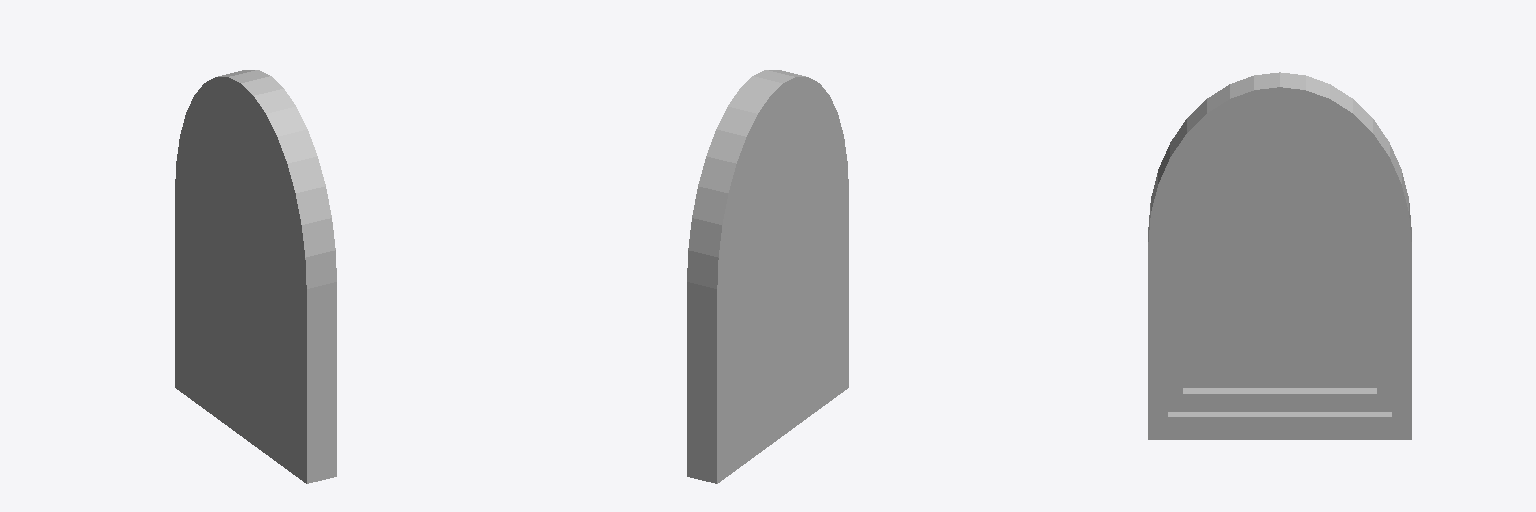
File: Janela_MESH Texture.obj
3 views of the same model, side by side, from view 1: azimuth 30°, elevation 25°; view 2: azimuth 150°, elevation 25°; view 3: azimuth 270°, elevation 25° (orthographic).
Visible parts, largest first — view 1: Janela.008_Cylinder.010; view 2: Janela.008_Cylinder.010; view 3: Janela.008_Cylinder.010.
Boxes of the visible parts, x1,y1,x2,y2 form: Janela.008_Cylinder.010: [175, 70, 336, 483]; Janela.008_Cylinder.010: [687, 70, 848, 483]; Janela.008_Cylinder.010: [1148, 72, 1411, 439].
Bounding box in the file's own units: 0.2442 × 2.7 × 1.83.